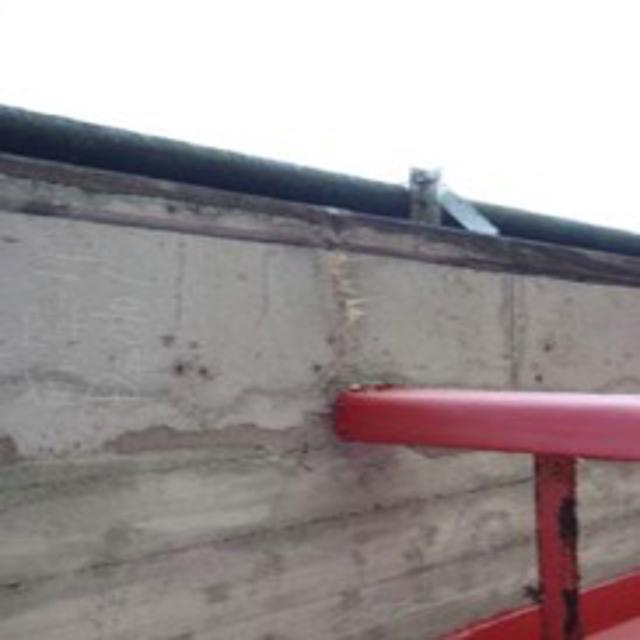freelime: (311, 240, 386, 367)
